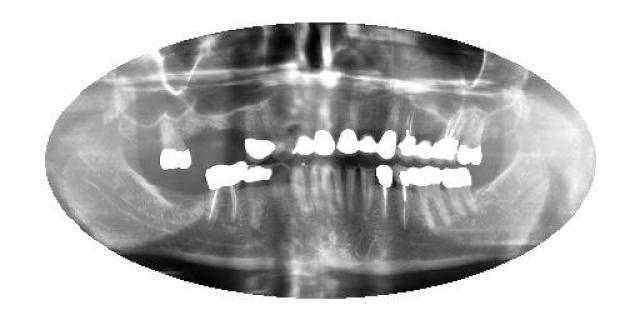Fillings: (408, 162, 453, 232), (440, 165, 485, 220), (153, 118, 195, 174), (241, 104, 279, 160), (240, 164, 270, 231), (310, 90, 336, 158), (458, 112, 487, 166), (291, 91, 315, 154), (378, 94, 400, 160), (335, 124, 360, 154), (414, 132, 434, 164), (358, 129, 378, 156)
Implant: (202, 160, 242, 229), (432, 95, 468, 165), (398, 91, 418, 162), (392, 164, 412, 232), (373, 164, 395, 220)
